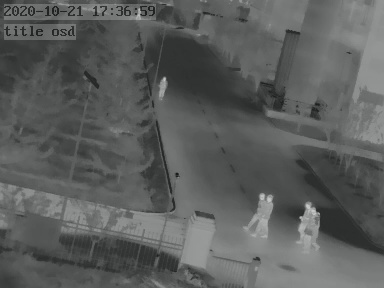person: (246, 192, 265, 237), (259, 194, 273, 240), (296, 200, 310, 244), (304, 207, 319, 248), (157, 75, 166, 101), (135, 7, 142, 20)
